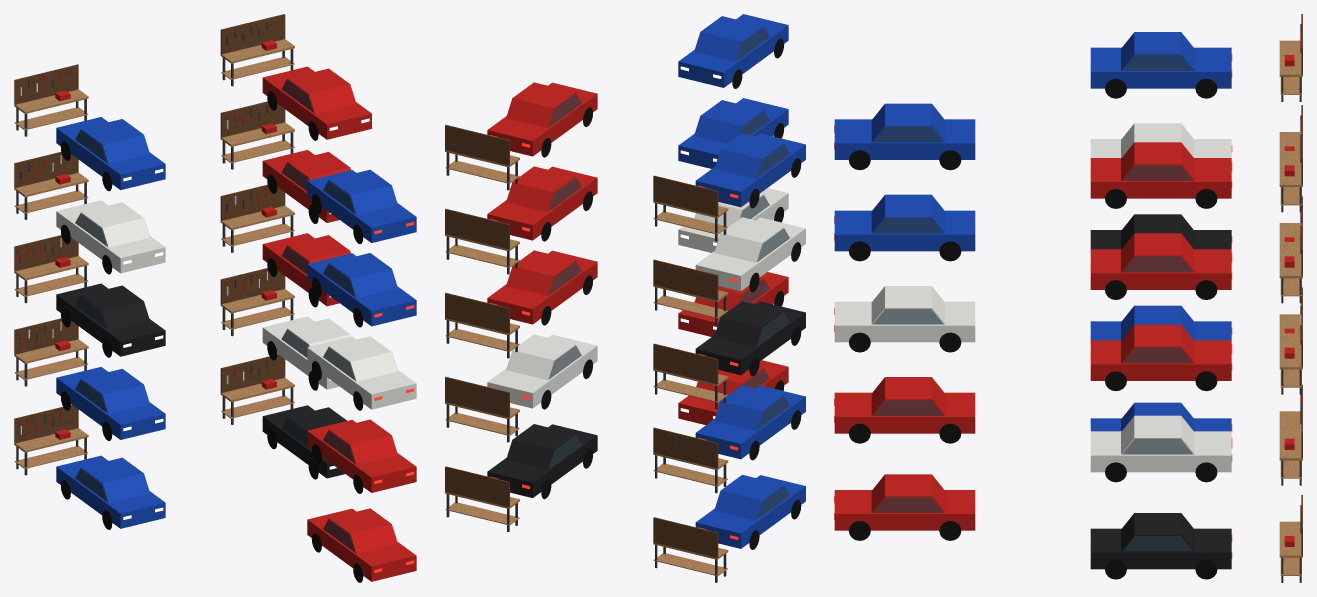
File: i_parking_tower.gltf
The picture shows the model from 3 angles, left to right: view 1: azimuth 30°, elevation 25°; view 2: azimuth 150°, elevation 25°; view 3: azimuth 270°, elevation 25°; orthographic projection. The views are drawn at different scales.
Visible parts, largest first — view 1: I_parking_tower; view 2: I_parking_tower; view 3: I_parking_tower.
Boxes of the visible parts, box(x1,y1,x2,y2) form: I_parking_tower: box(14, 14, 416, 582); I_parking_tower: box(445, 14, 805, 582); I_parking_tower: box(834, 14, 1302, 582).
Bounding box in the file's own units: 10.18 × 14 × 13.99.
12 materials, 2 textured.
